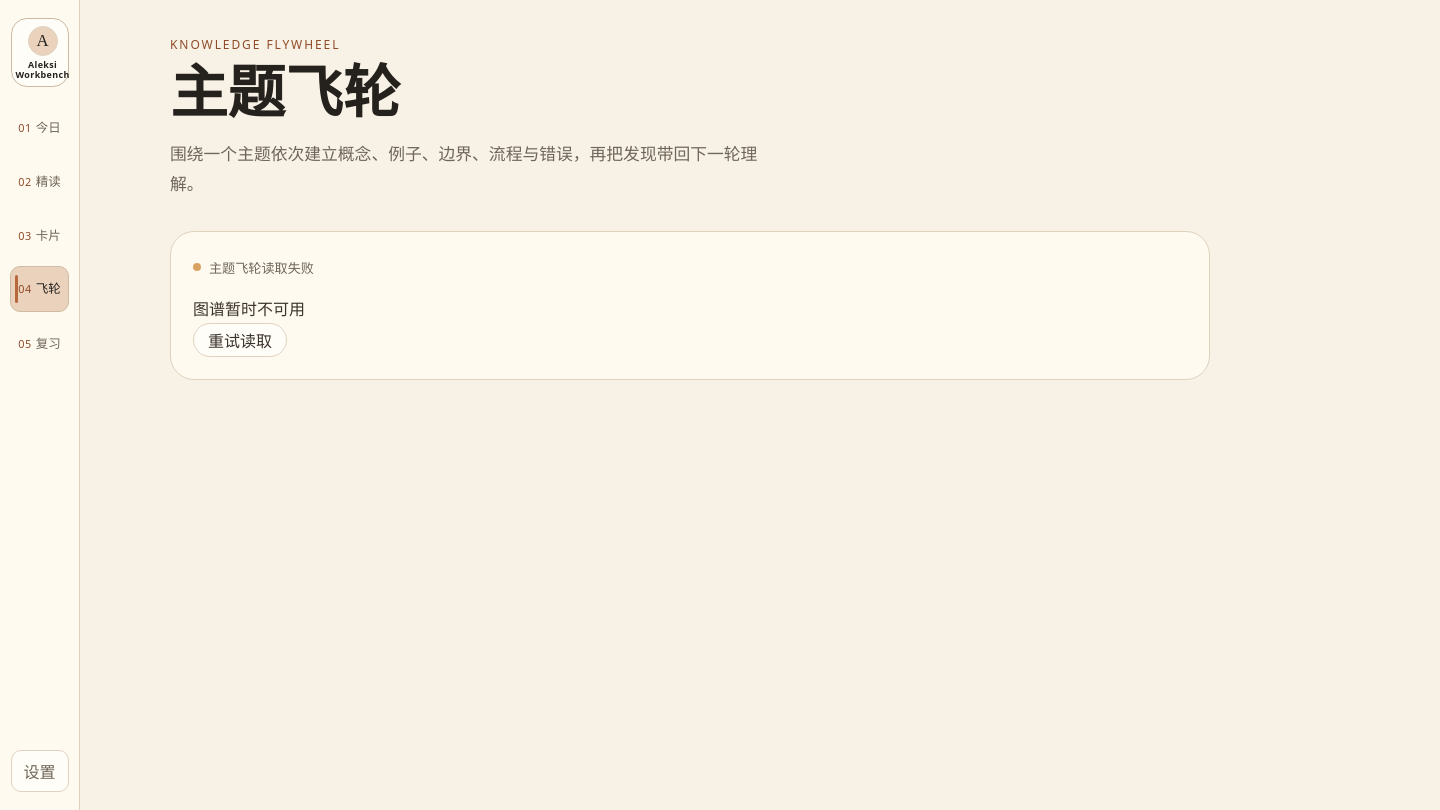
Flywheel graph page › distinguishes a Graph load failure from an empty graph and recovers on Retry
expect the message shows "图谱暂时不可用": met, box [193, 298, 305, 320]
Click the button "重试读取": (240, 340) [193, 323, 287, 357]
(page scrolled)
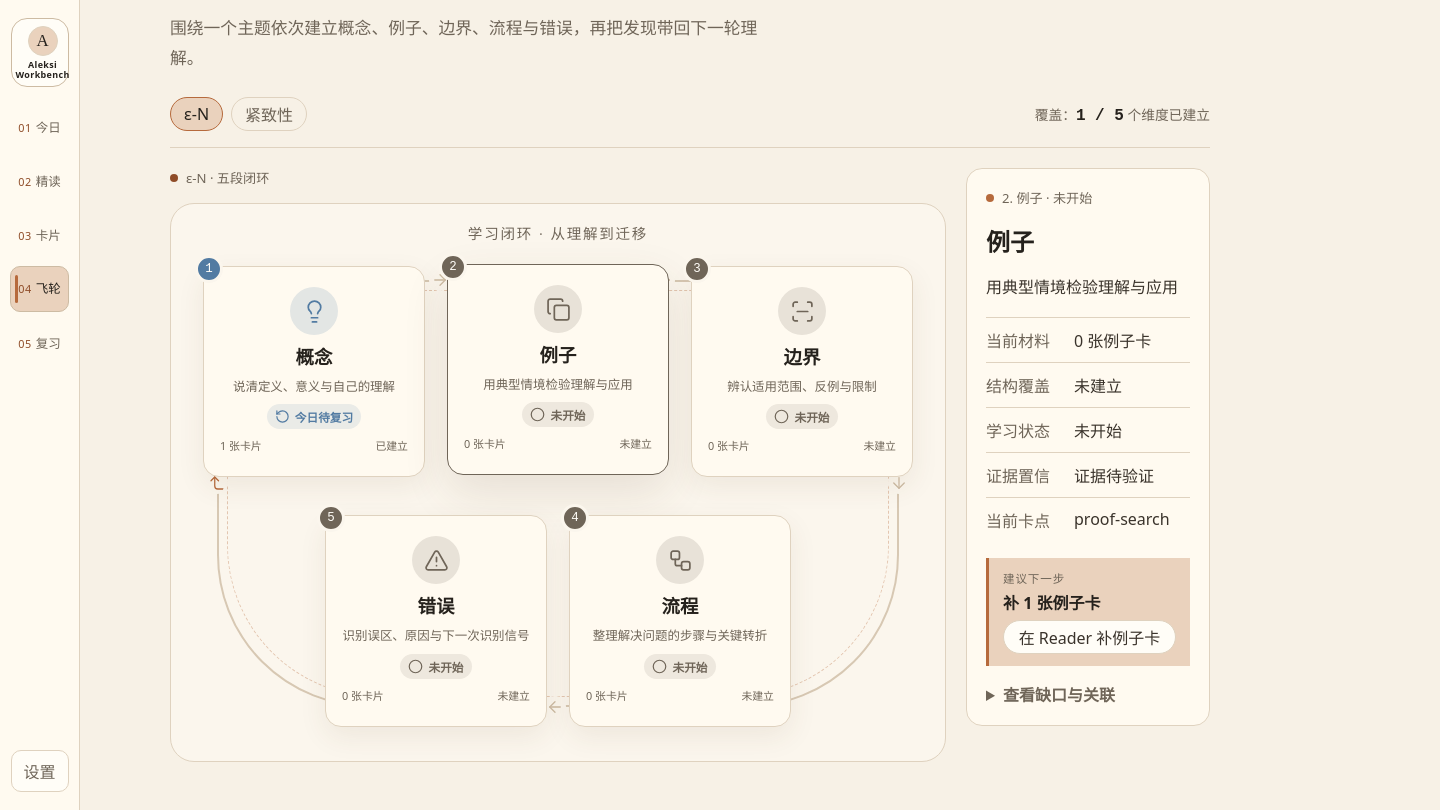
expect the element named "ε-N 主题飞轮" is shown: met, box [170, 203, 946, 762]
expect the message "主题飞轮读取失败 图谱暂时不可用 重试读取" is gone: met
